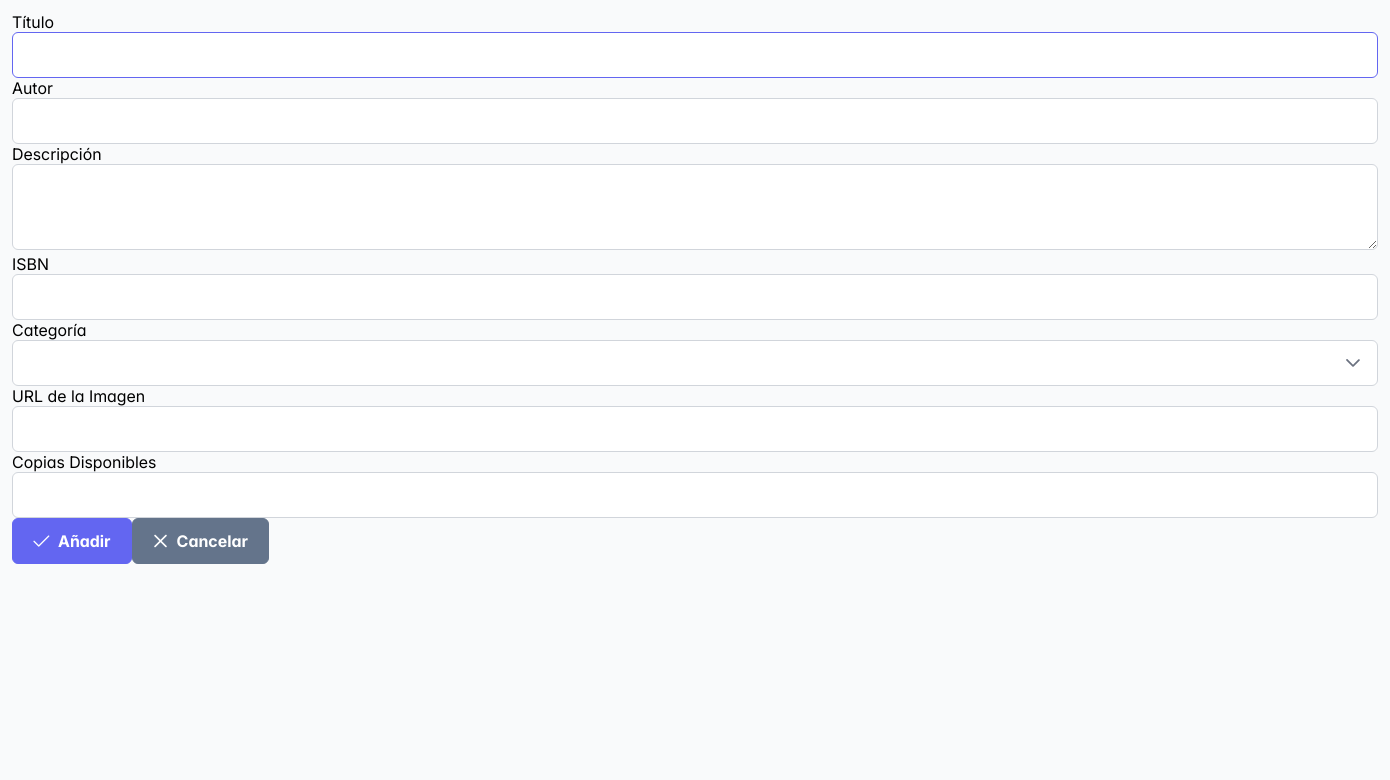
AddProduct Component › shows warning if fields are empty on submit
This screenshot has width=1390, height=780.
Click the button "Añadir": (72, 541) [12, 518, 132, 564]
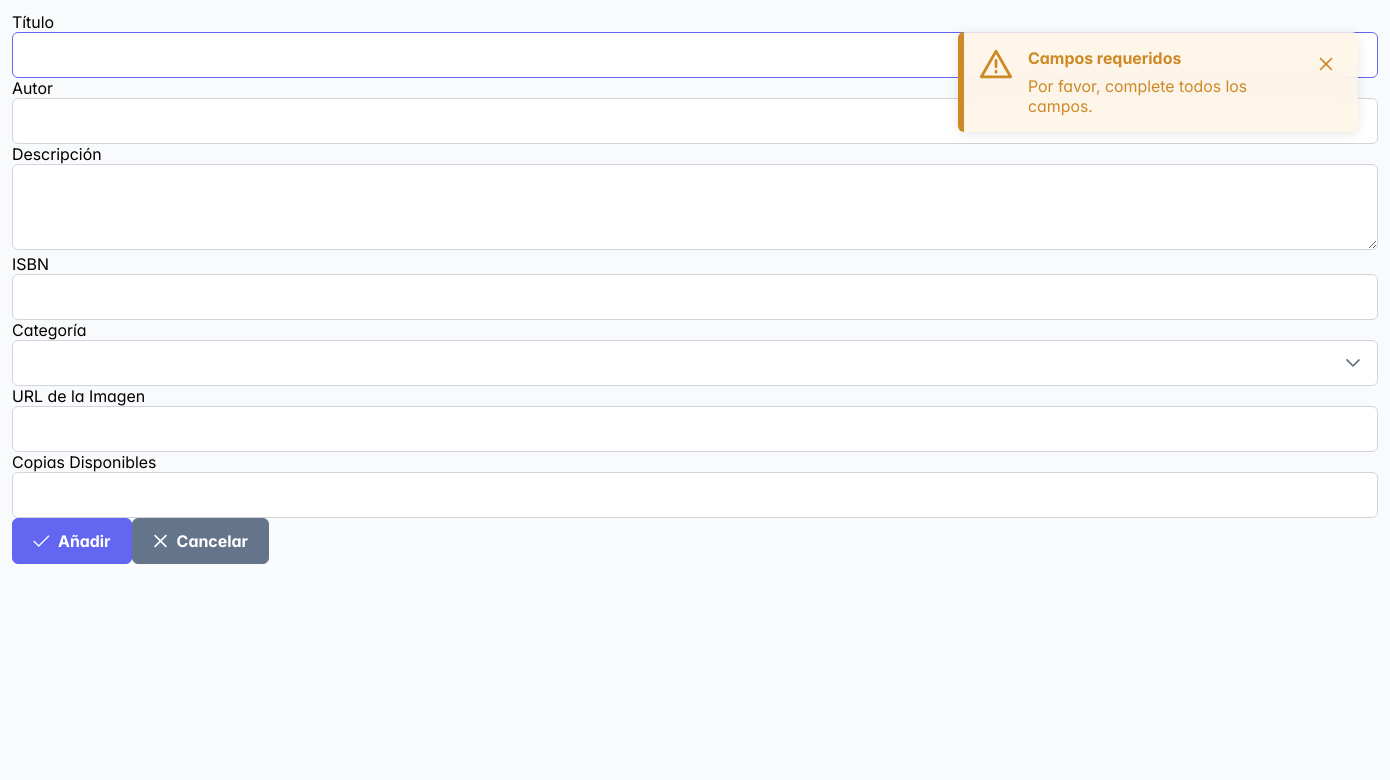
Result: the text "Por favor, complete todos los campos." is shown at [1028, 76, 1247, 116]
